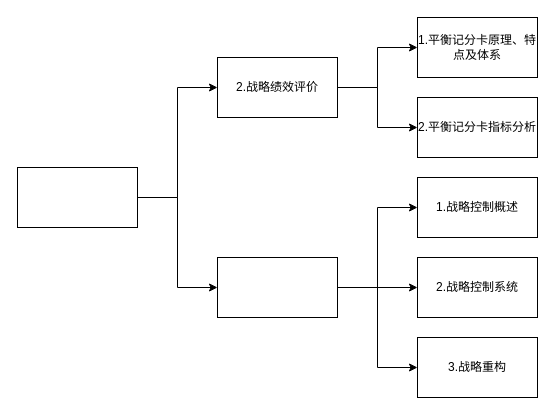
Some shapes in this 555 by 415 pixel diagram are drawn without their labels. Each missing label, with the box of its shape:
3.战略控制: (216, 256, 338, 318)
战略实施、评价与控制: (16, 166, 138, 228)
